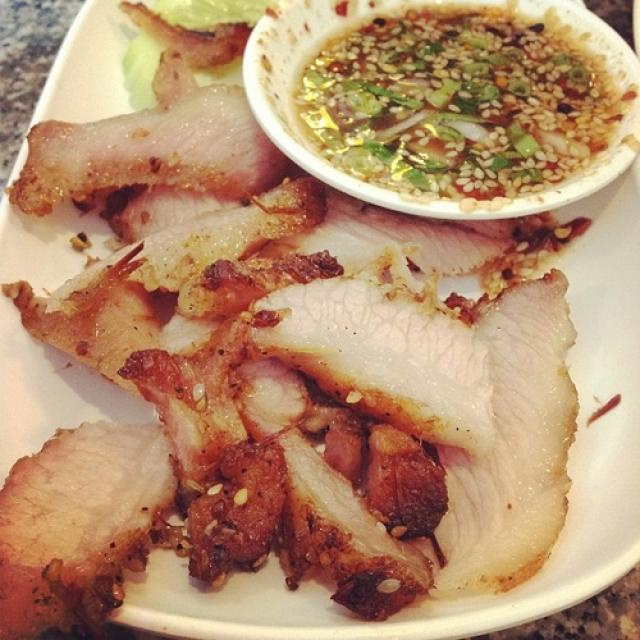猪肉菜式: (5, 21, 606, 618)
